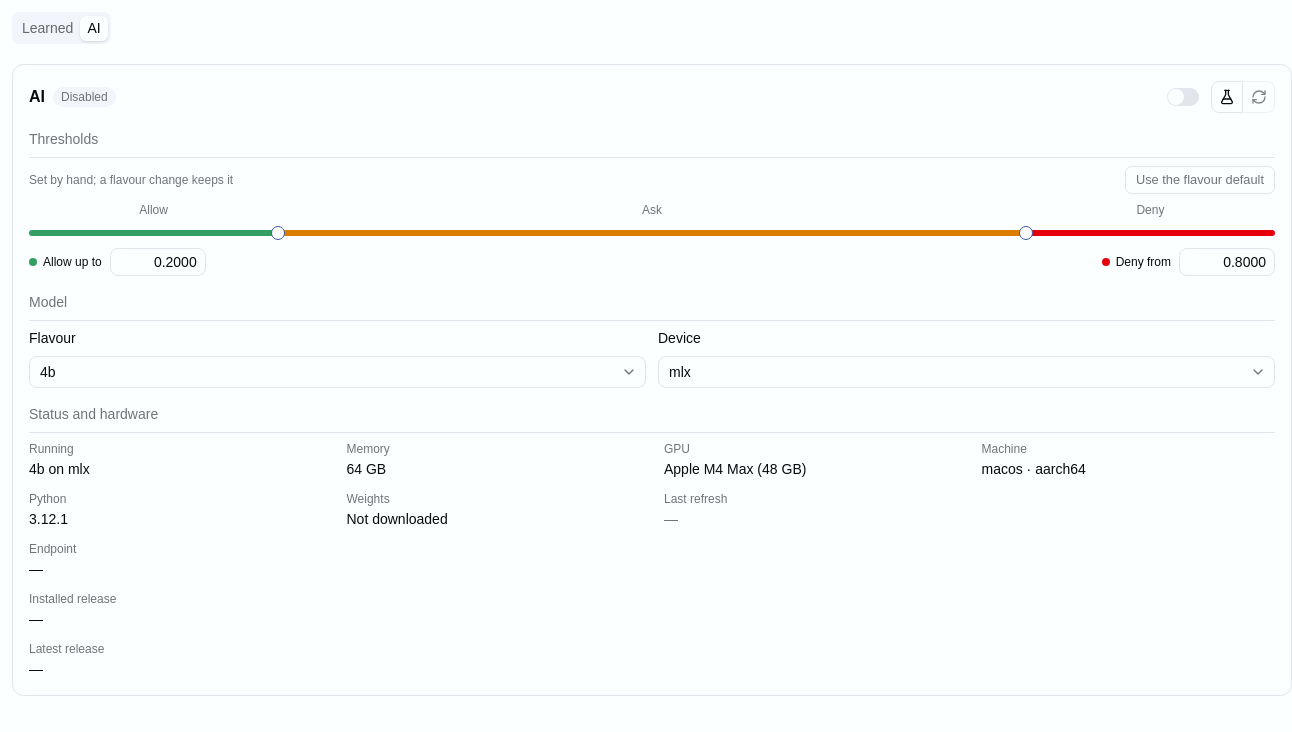
it: the model pickers › shows the flavour refusal message
Click the dropdown named "Flavour" at (48, 372), box [29,356,646,388]
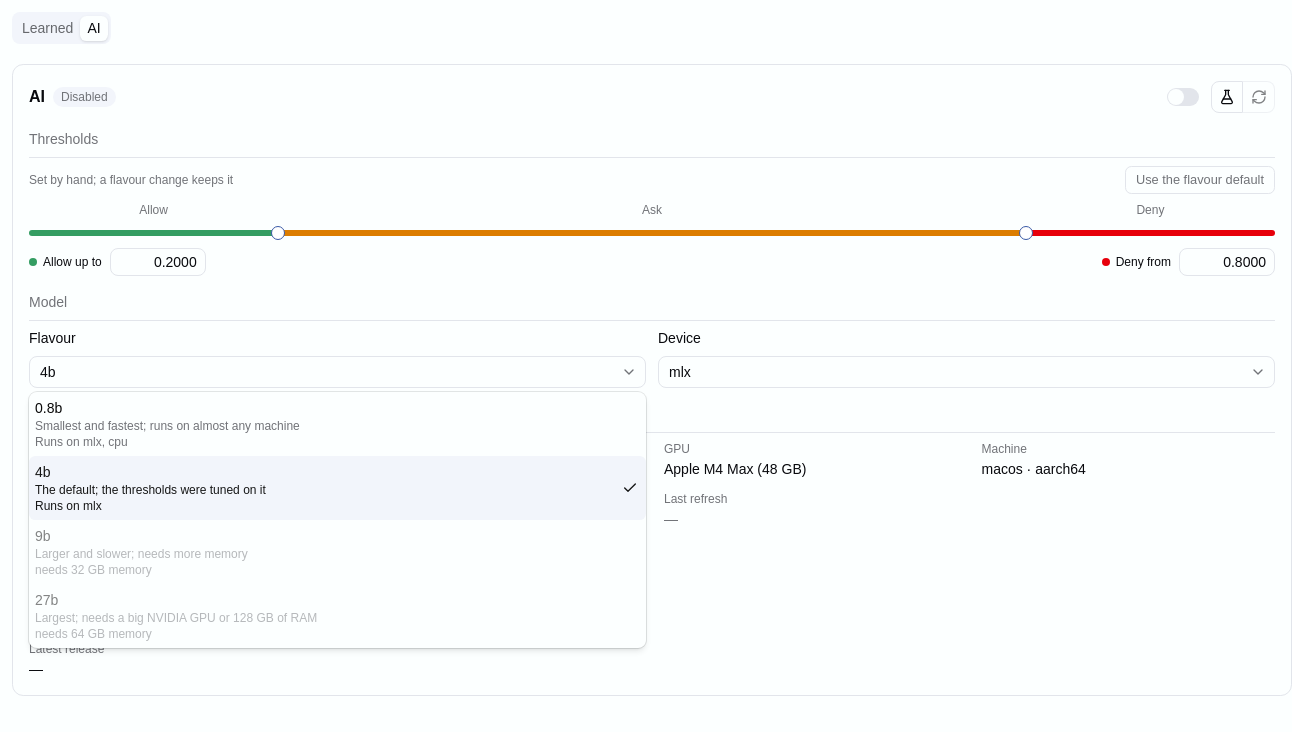
Click the option "0.8b" at (167, 424), box [35,400,300,449]
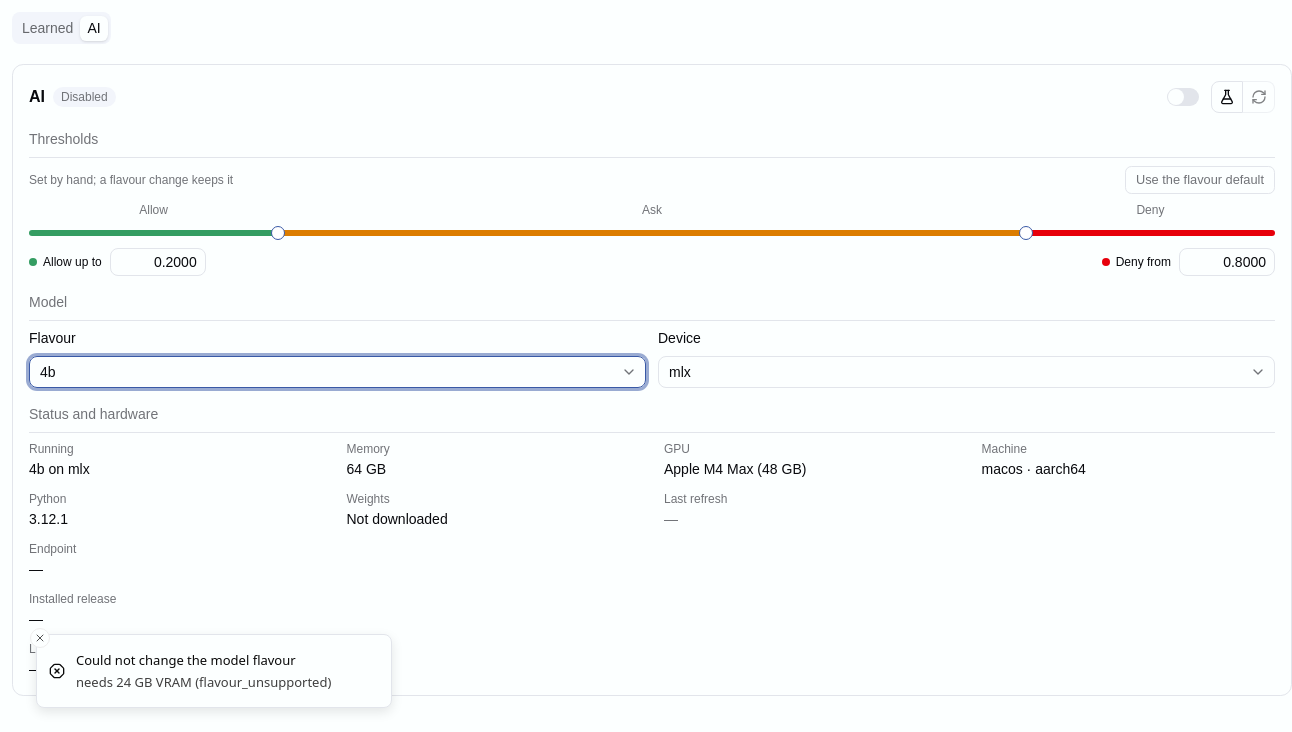
Now the text "needs 24 GB VRAM (flavour_unsupported)" is shown, box [76,673,331,691]
